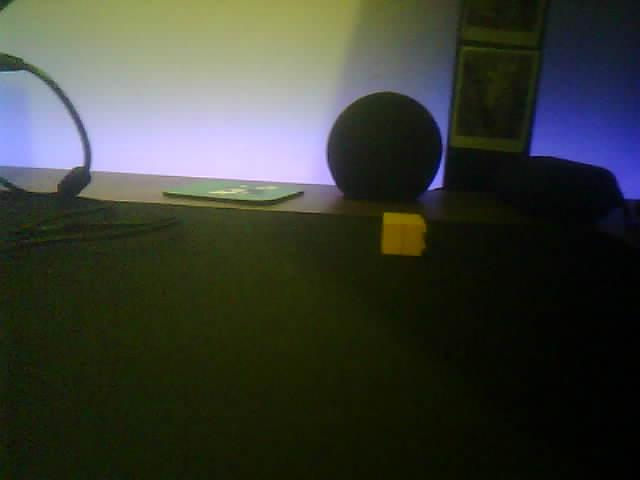lego: (380, 211, 428, 257)
